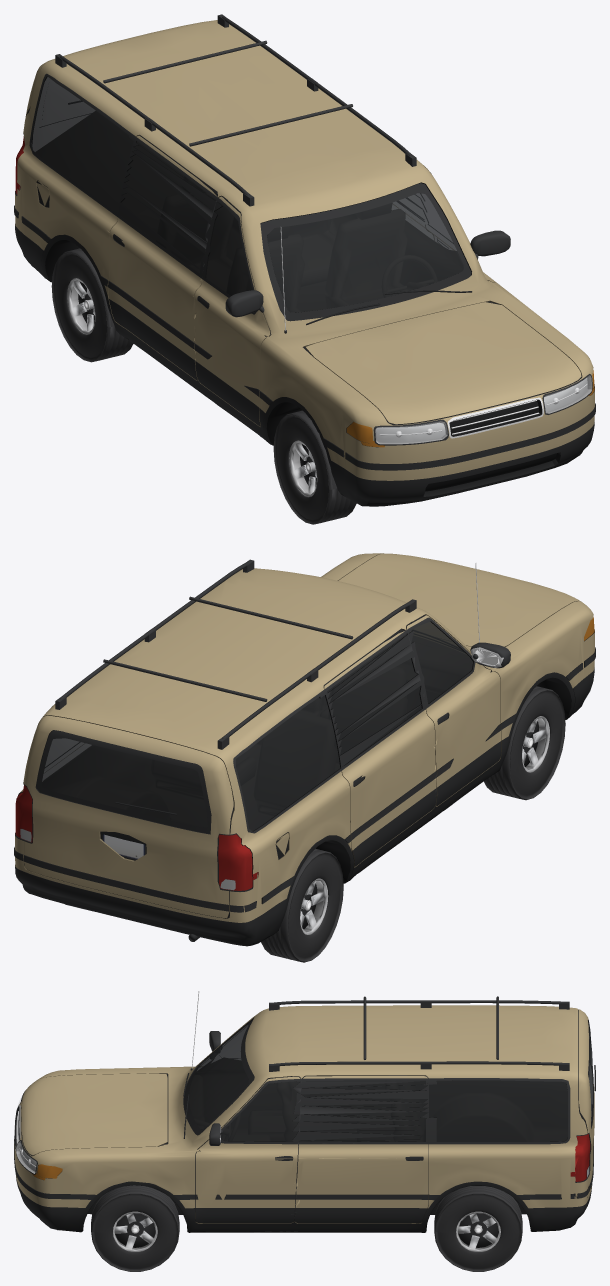
The model's file is car_suv.glb.
The picture shows the model from 3 angles, top to bottom: view 1: azimuth 30°, elevation 25°; view 2: azimuth 150°, elevation 25°; view 3: azimuth 270°, elevation 25°; orthographic projection. The views are drawn at different scales.
Visible parts, largest first — view 1: body, wheel_FR, wheel_RR; view 2: body, wheel_RR, wheel_FR; view 3: body, wheel_FL, wheel_RL.
Boxes of the visible parts, box(x1,y1,x2,y2) form: body: box(14, 14, 595, 506); wheel_FR: box(273, 410, 356, 524); wheel_RR: box(51, 248, 133, 362); body: box(14, 553, 595, 946); wheel_RR: box(261, 848, 343, 962); wheel_FR: box(484, 686, 565, 800); body: box(14, 991, 595, 1232); wheel_FL: box(91, 1185, 179, 1271); wheel_RL: box(434, 1186, 522, 1271).
Bounding box in the file's own units: 2.07 × 1.84 × 4.82.
Materials: 12 (1 with a texture image).
